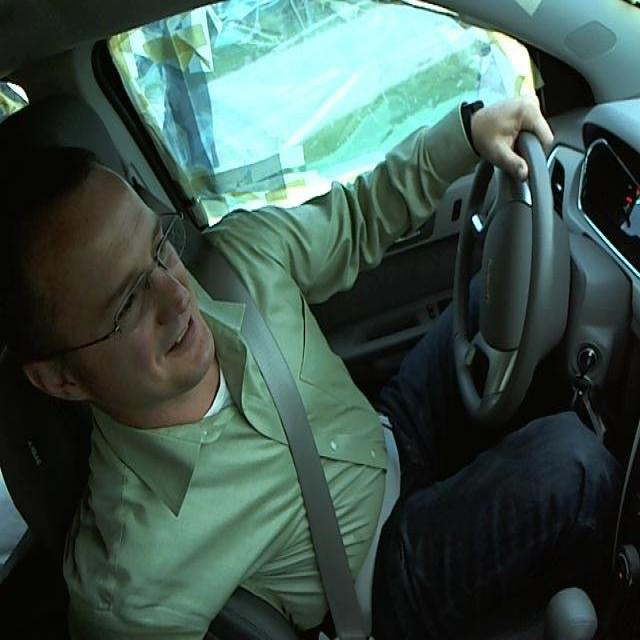seatbelt: (253, 317, 356, 639)
